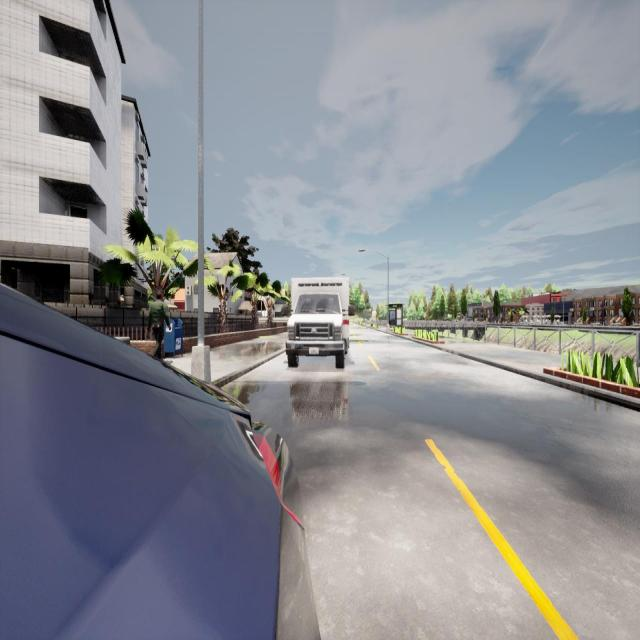Pedestrian: (148, 290, 172, 358)
Vehicle: (0, 286, 319, 640), (282, 278, 355, 368)
